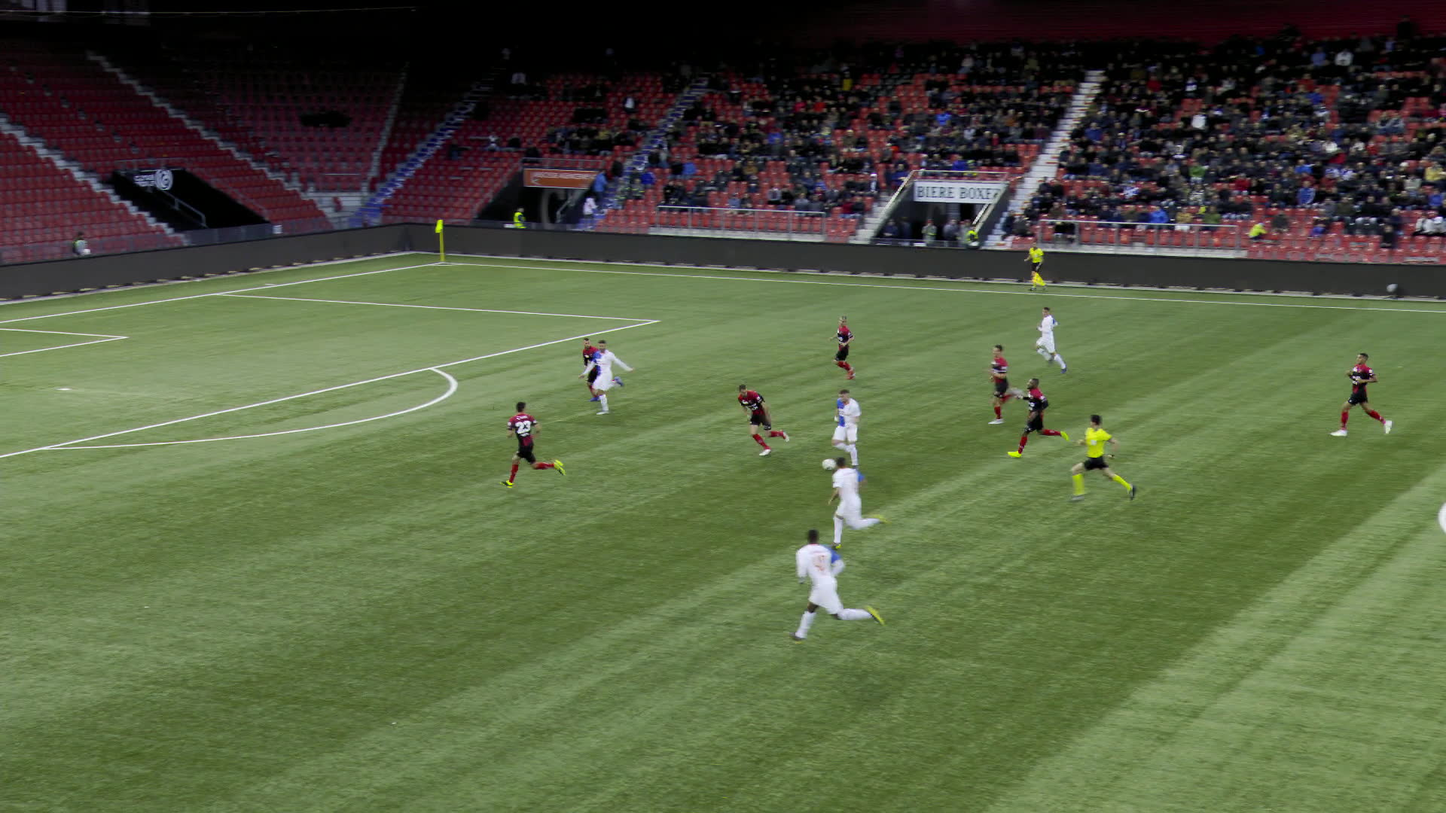ball: (831, 459, 843, 469)
player: (798, 533, 880, 650), (1330, 353, 1390, 436), (506, 404, 560, 492), (838, 458, 885, 549), (585, 337, 635, 411), (1017, 379, 1063, 458), (827, 388, 872, 467), (733, 383, 782, 453), (987, 343, 1026, 423), (1033, 306, 1073, 367), (580, 337, 616, 400), (828, 315, 862, 379)
referee: (1063, 413, 1146, 504), (1019, 242, 1042, 291)
